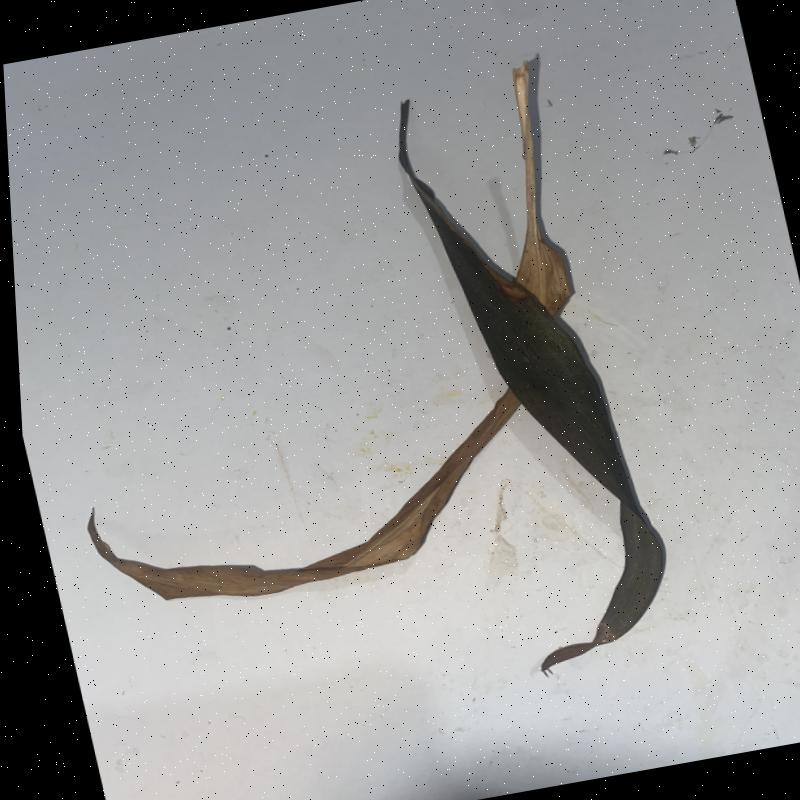treeleaves: (398, 103, 667, 675), (85, 393, 519, 602), (510, 63, 574, 319)
